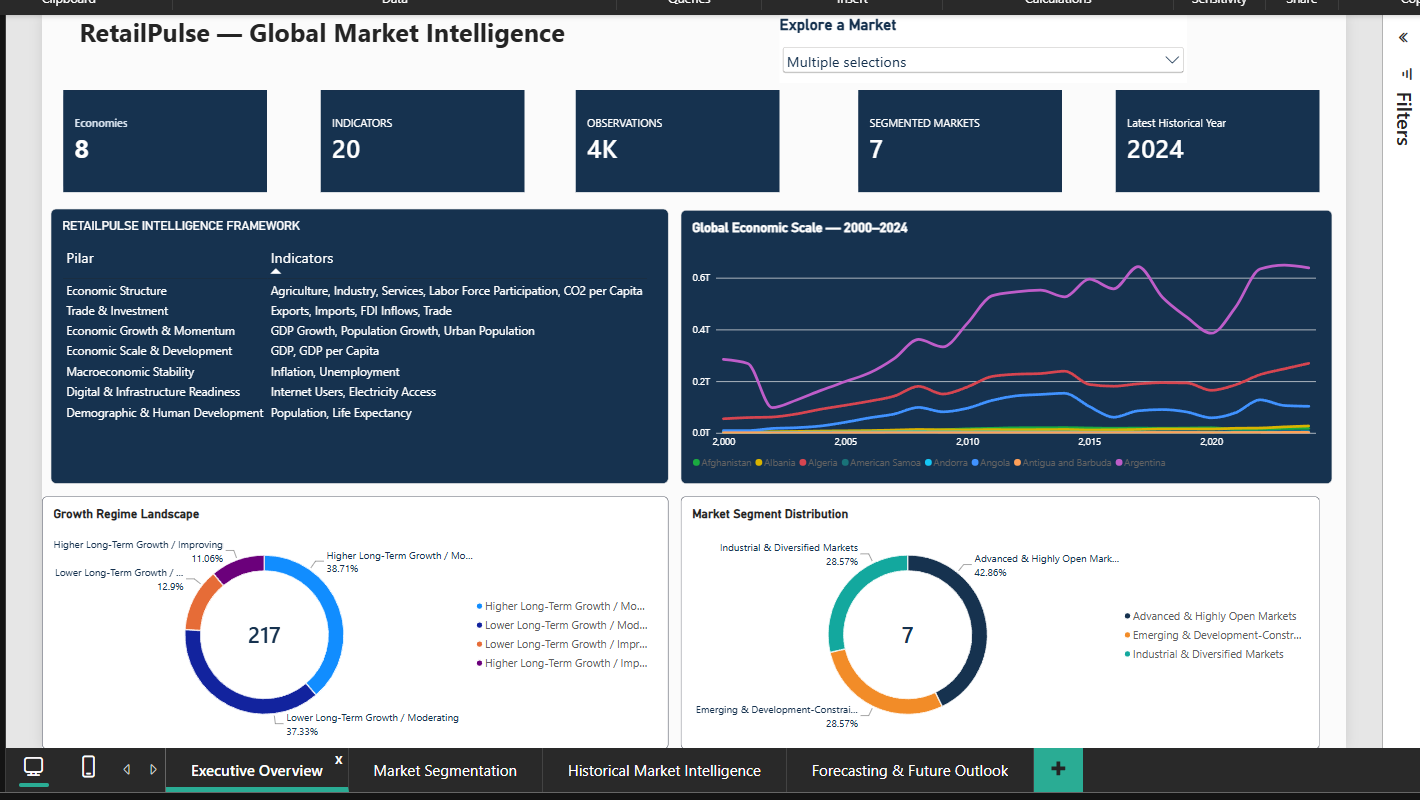

Layout of this report page (visuals, bound fields, positions):
{"tool":"powerbi","page":{"name":"Executive Overview","canvas":[1920,1080],"ordinal":0},"visuals":[{"type":"cardVisual","fields":{"Data":["Measures (2).Total Countries"]},"box":[30.9,111.1,300,150],"z":0},{"type":"cardVisual","fields":{"Data":["Measures (2).Latest Historical Year"]},"box":[1580.8,111.1,300,150.3],"z":1000},{"type":"textbox","box":[0,878,280,202],"z":2000},{"type":"textbox","box":[55.2,0,835.6,79.1],"z":3000},{"type":"lineChart","title":"Global Economic Scale — 2000–2024","fields":{"Category":["COUNTRY_ECONOMIC_PROFILE.YEAR"],"Series":["DIM_COUNTRY.COUNTRY_NAME"],"Y":["Sum(COUNTRY_ECONOMIC_PROFILE.GDP_USD)"]},"box":[940.5,287.1,958.9,403.1],"z":4000},{"type":"cardVisual","fields":{"Data":["Measures (2).Segmented Markets"]},"box":[1202.1,111.1,300,150],"z":5000},{"type":"donutChart","title":"Market Segment Distribution","fields":{"Category":["market_segments.SEGMENT"],"Y":["Count(market_segments.COUNTRY_ISO3)"]},"box":[940.5,708.6,940.7,372.6],"z":6000},{"type":"cardVisual","fields":{"Data":["Measures (2).Total Indicators"]},"box":[409.6,111.1,300,150],"z":7000},{"type":"cardVisual","fields":{"Data":["Measures (2).Historical Observations"]},"box":[786.3,111.1,300,150],"z":8000},{"type":"donutChart","title":"Growth Regime Landscape","fields":{"Category":["Growth Regime Summary.Growth Regime"],"Y":["Sum(Growth Regime Summary.Countries)"]},"box":[0,708.6,922.1,372.6],"z":9000},{"type":"tableEx","title":"RETAILPULSE INTELLIGENCE FRAMEWORK","fields":{"Values":["Indicator Framework.Pilar","Indicator Framework.Indicators"]},"box":[12.9,285.3,909.2,404.9],"z":10000},{"type":"slicer","title":"Explore a Market","fields":{"Values":["DIM_COUNTRY.COUNTRY_NAME"]},"box":[1085.9,0,600,100],"z":11000}]}

Visuals, with their boxes on the page's 1920x1080 design canvas (x1, y1, x2, y2). These are canvas units, not pixel positions in the 1420x800 screenshot, which may show the page scaled, cropped or inside an application window:
cardVisual - Measures (2).Total Countries: Rect(31, 111, 331, 261)
cardVisual - Measures (2).Latest Historical Year: Rect(1581, 111, 1881, 261)
textbox: Rect(0, 878, 280, 1080)
textbox: Rect(55, 0, 891, 79)
"Global Economic Scale — 2000–2024" lineChart: Rect(940, 287, 1899, 690)
cardVisual - Measures (2).Segmented Markets: Rect(1202, 111, 1502, 261)
"Market Segment Distribution" donutChart: Rect(940, 709, 1881, 1081)
cardVisual - Measures (2).Total Indicators: Rect(410, 111, 710, 261)
cardVisual - Measures (2).Historical Observations: Rect(786, 111, 1086, 261)
"Growth Regime Landscape" donutChart: Rect(0, 709, 922, 1081)
"RETAILPULSE INTELLIGENCE FRAMEWORK" tableEx: Rect(13, 285, 922, 690)
"Explore a Market" slicer: Rect(1086, 0, 1686, 100)
